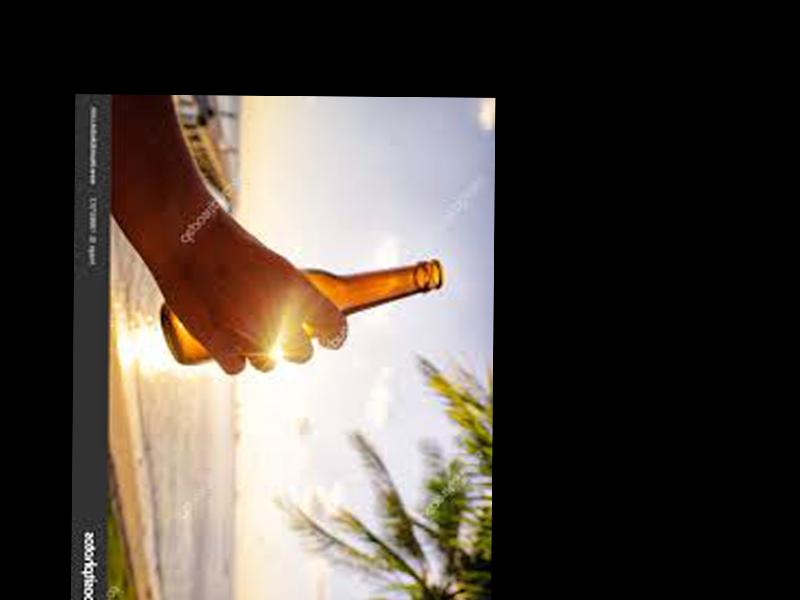Beer: (160, 256, 443, 367)
